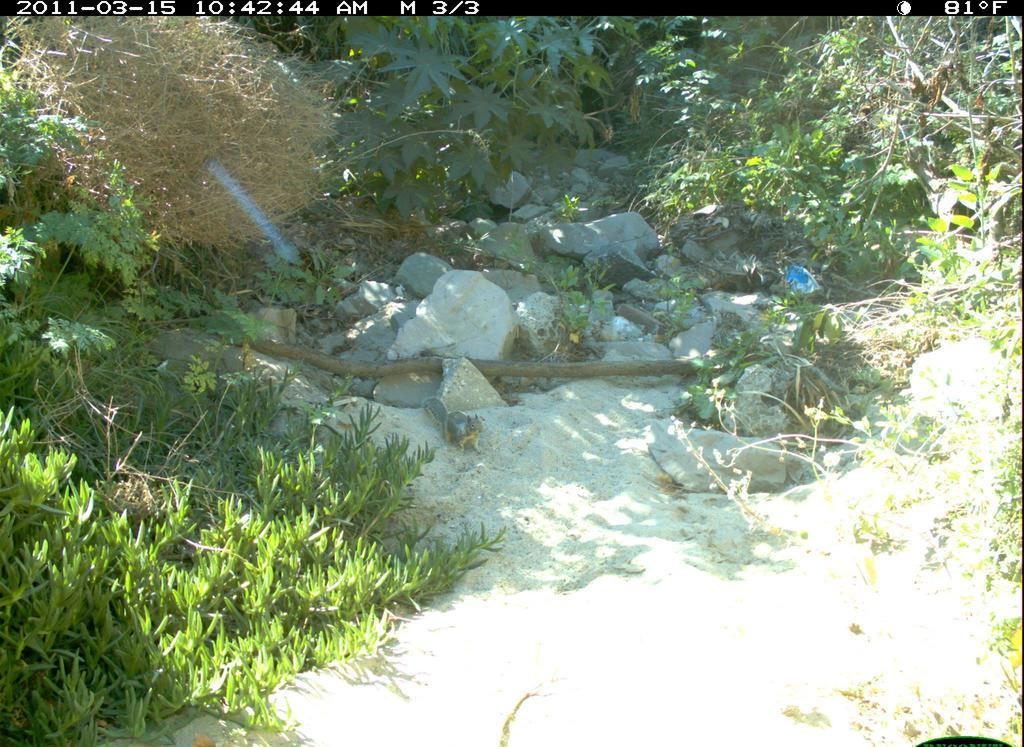squirrel: (414, 388, 491, 460)
